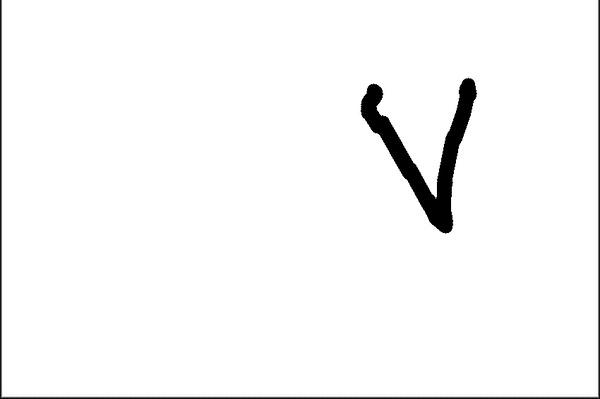V: (344, 69, 490, 239)
